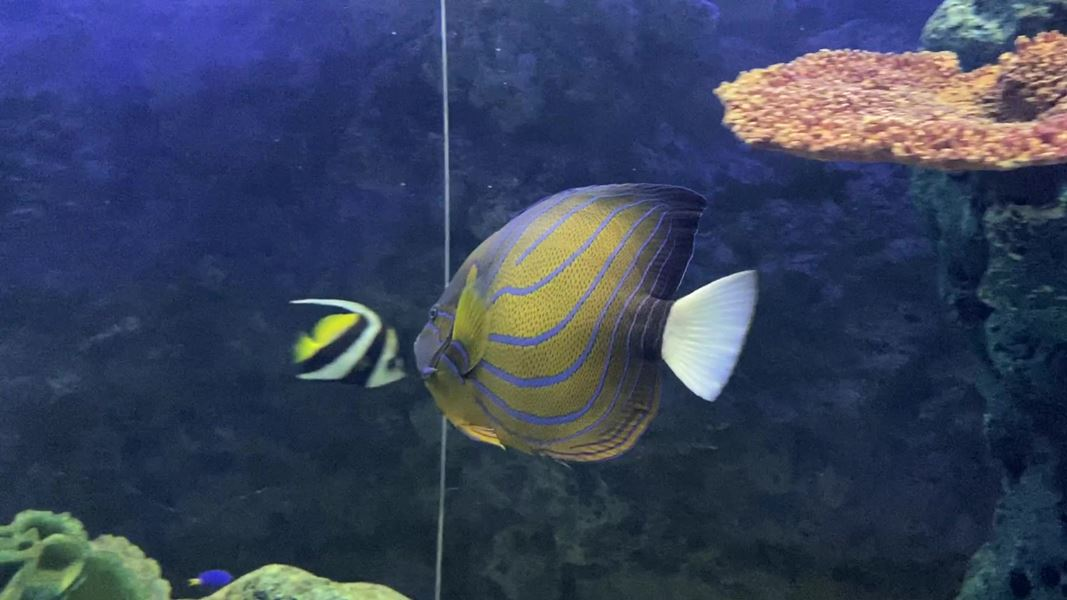Blue ring angelfish: (388, 174, 818, 481)
